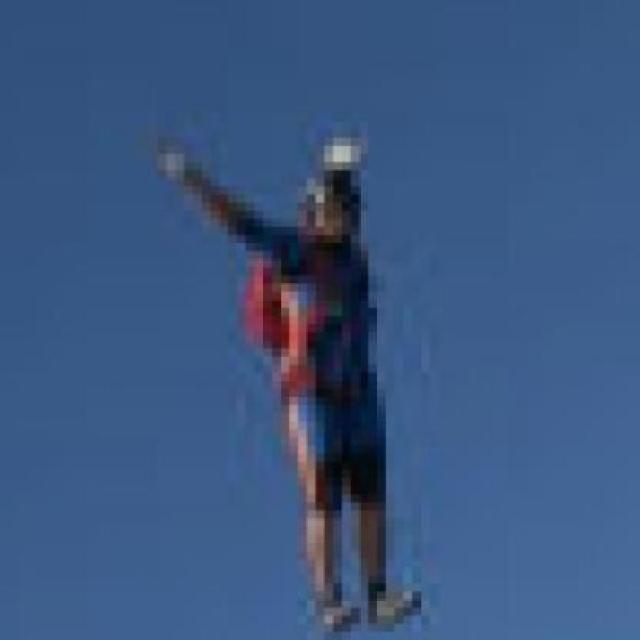fall: (158, 130, 438, 632)
